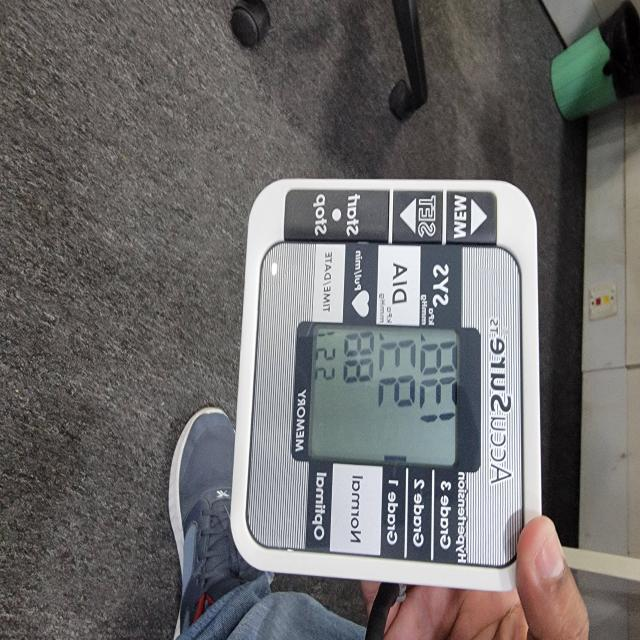bp: (231, 181, 541, 592)
